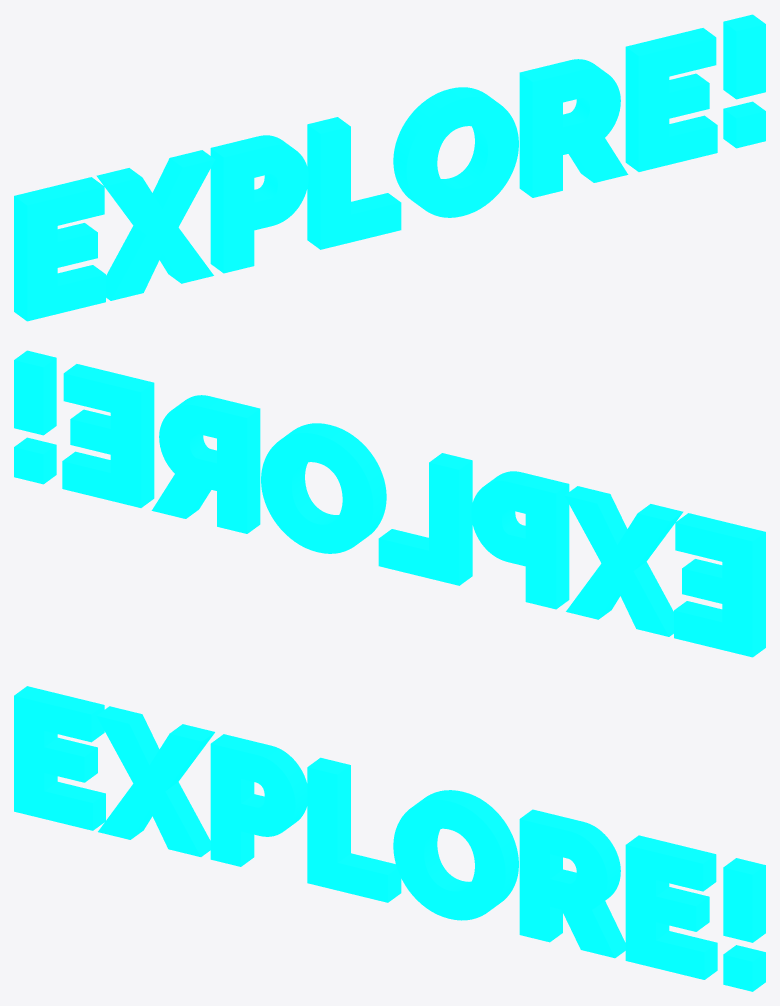
Rendered from explore.fbx.
3 renders of one model, top to bottom at view 1: azimuth 30°, elevation 25°; view 2: azimuth 150°, elevation 25°; view 3: azimuth 330°, elevation 25°, orthographic.
Visible parts, largest first — view 1: typeMesh5; view 2: typeMesh5; view 3: typeMesh5.
Part boxes in pixels (x1=…): typeMesh5: x1=14, y1=14, x2=765, y2=321; typeMesh5: x1=14, y1=350, x2=765, y2=657; typeMesh5: x1=14, y1=686, x2=765, y2=991.
Bounding box in the file's own units: 80.94 × 12.36 × 2.5.
